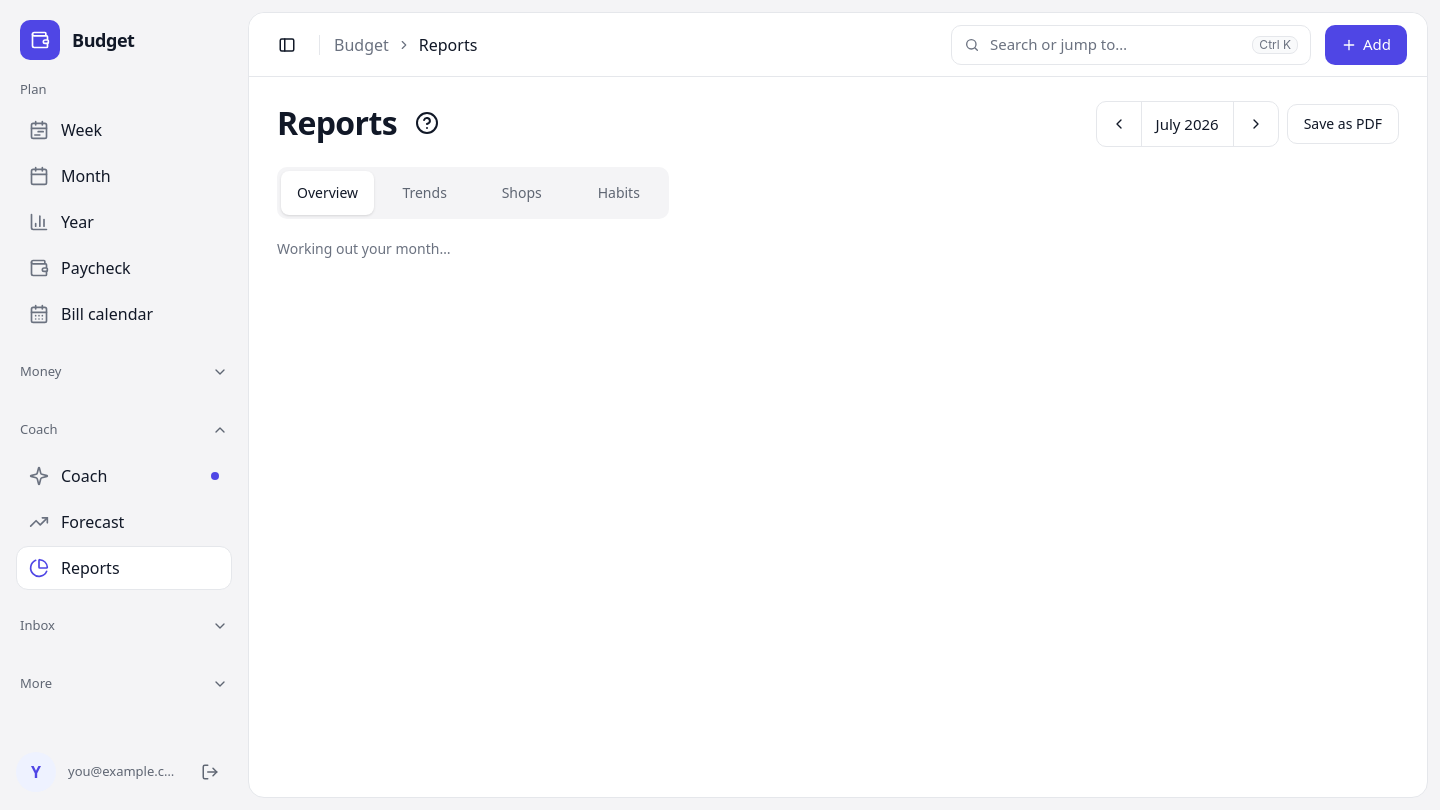
Test: Reports, Shops: worth a second look › says so when nothing stands out
Click the tab "Shops". click: (522, 193)
box: [475,171,568,215]
(page scrolled)
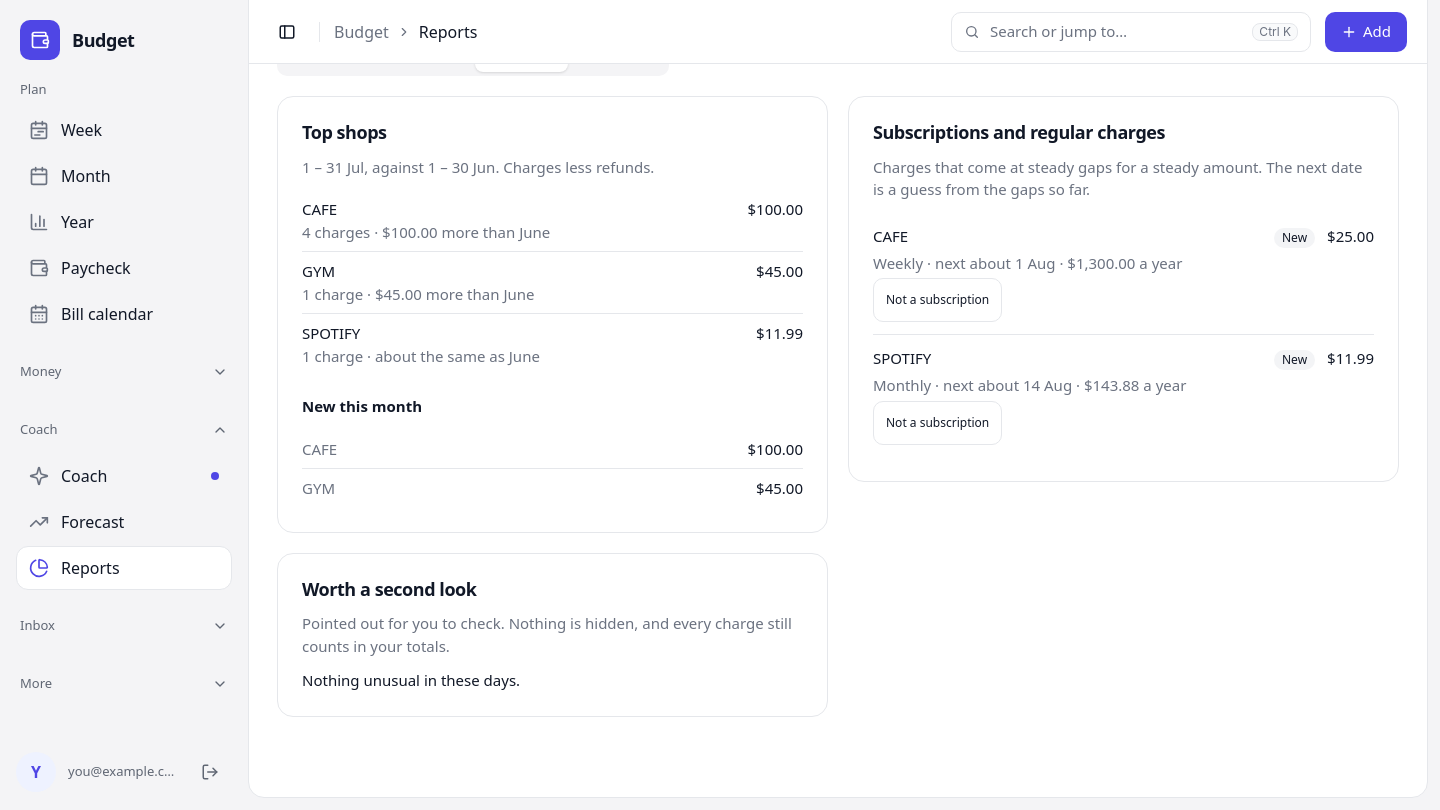
Expected: the text "Nothing unusual in these days." is shown, [302,670,520,690]
